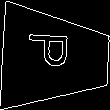P_E: (31, 38, 81, 78)
